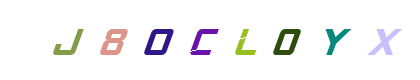0: (246, 0, 326, 80)
8: (117, 0, 197, 80)
C: (158, 0, 238, 80)
J: (82, 0, 162, 80)
L: (169, 0, 249, 80)
O: (118, 0, 198, 80)
X: (299, 0, 379, 80)
Y: (295, 0, 375, 80)
